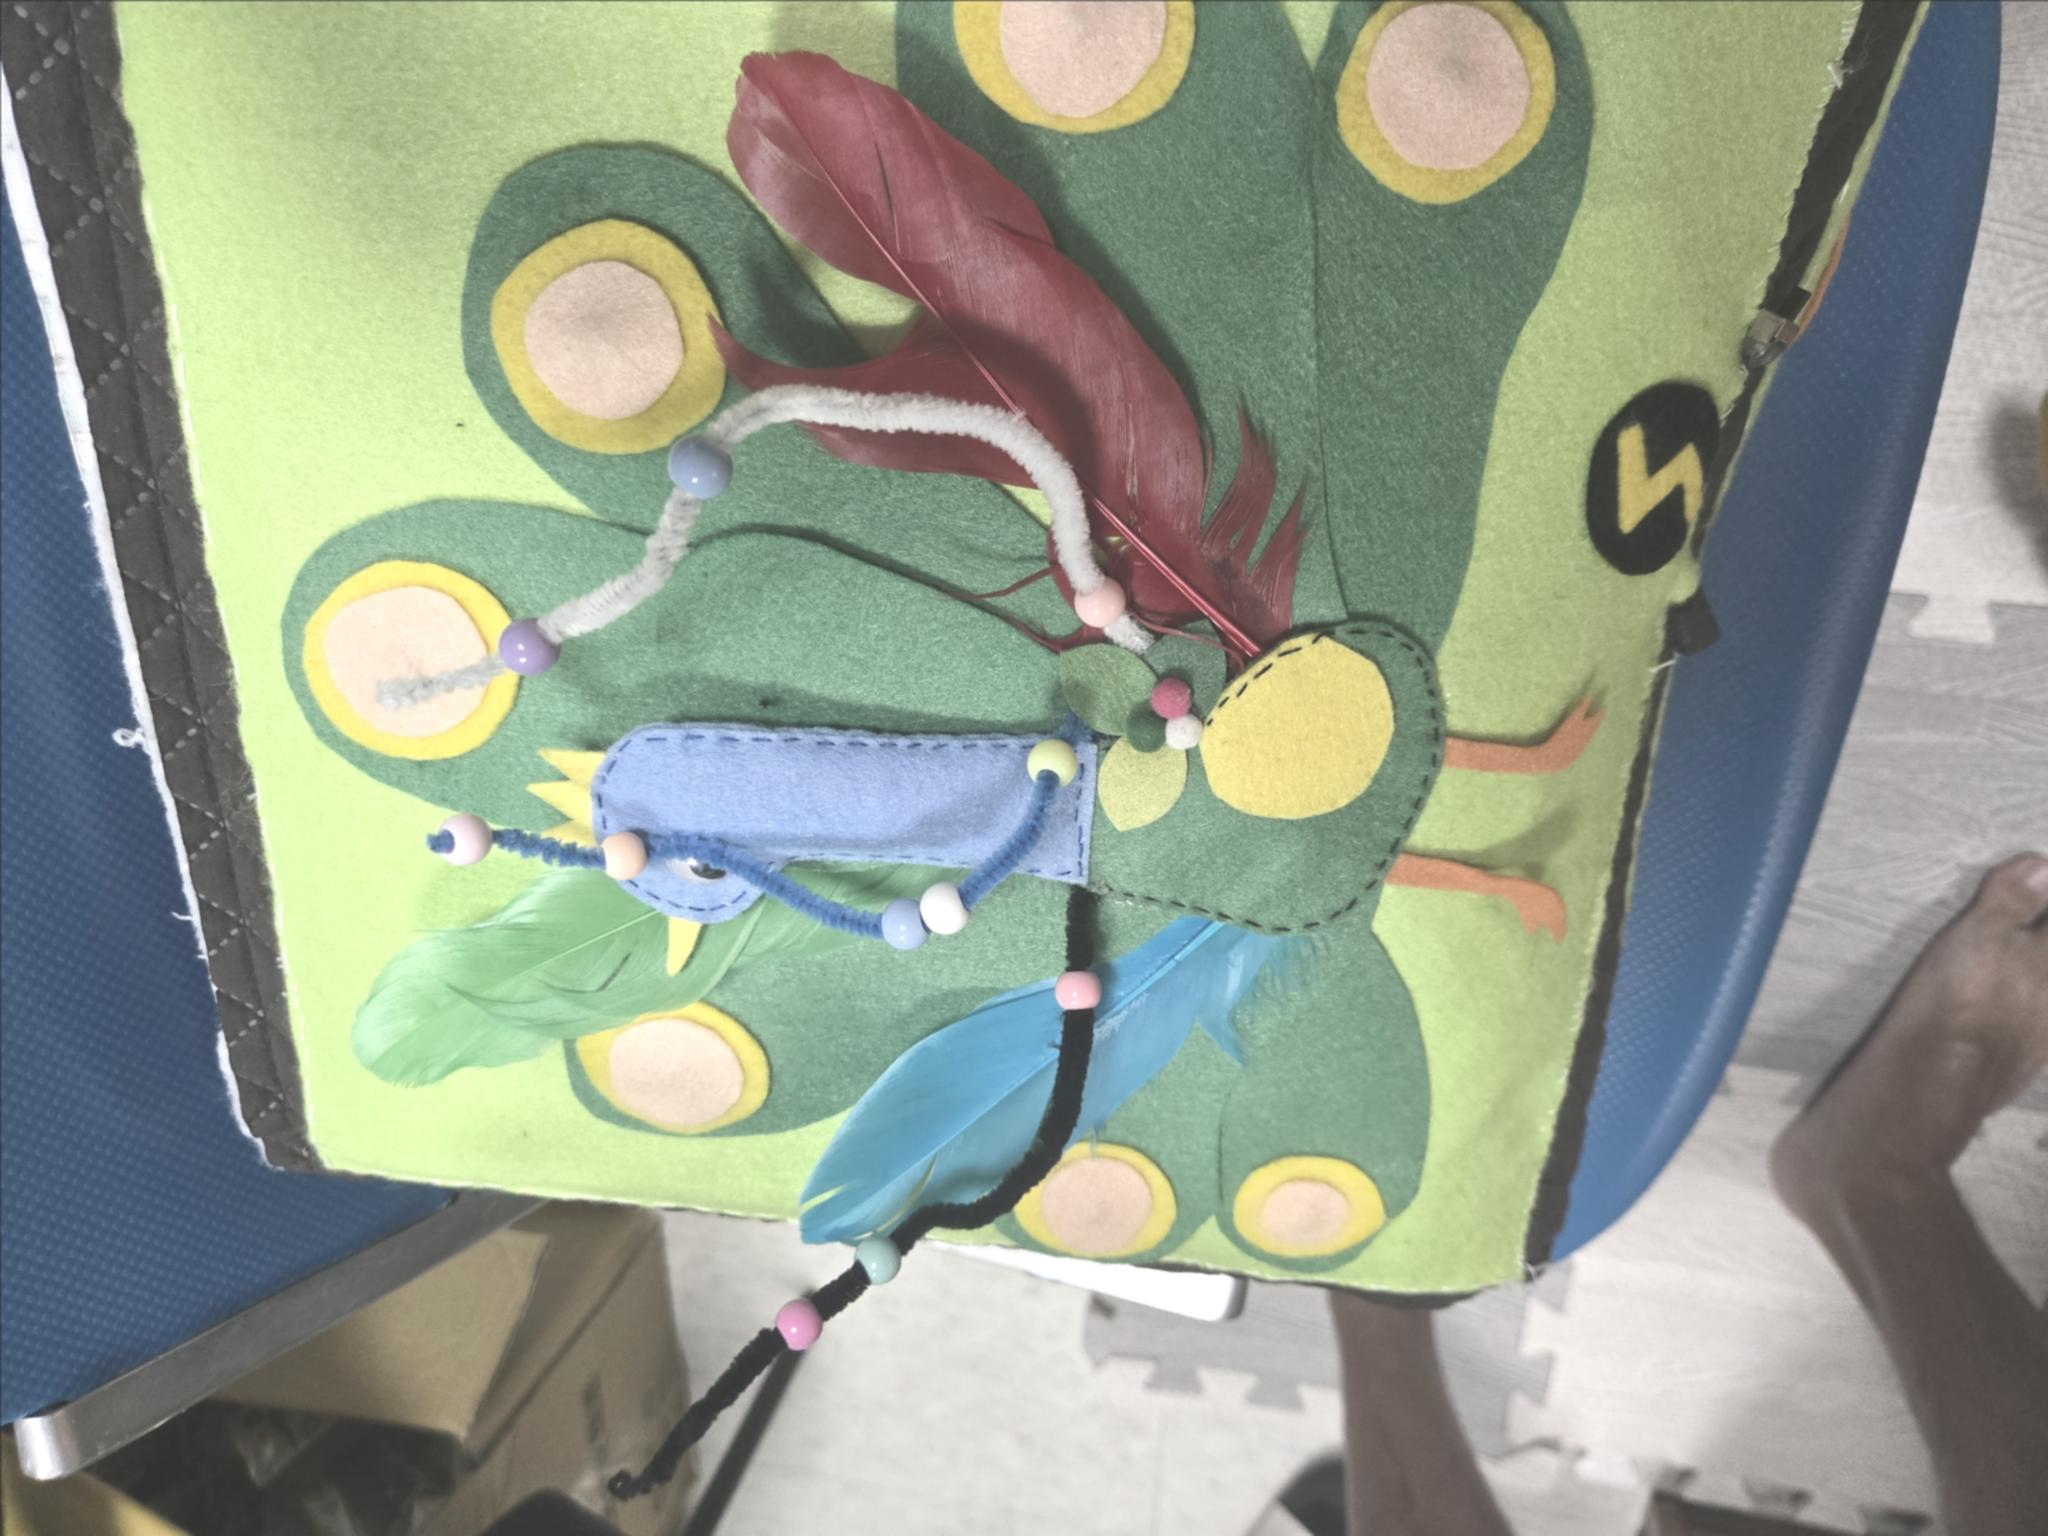bead: (650, 421, 748, 508), (489, 613, 585, 681), (1063, 574, 1137, 642), (431, 797, 495, 874), (1022, 728, 1093, 795), (589, 824, 655, 897), (914, 881, 987, 944), (761, 1281, 821, 1357), (850, 1221, 910, 1292), (861, 884, 919, 955), (1048, 965, 1114, 1026)
